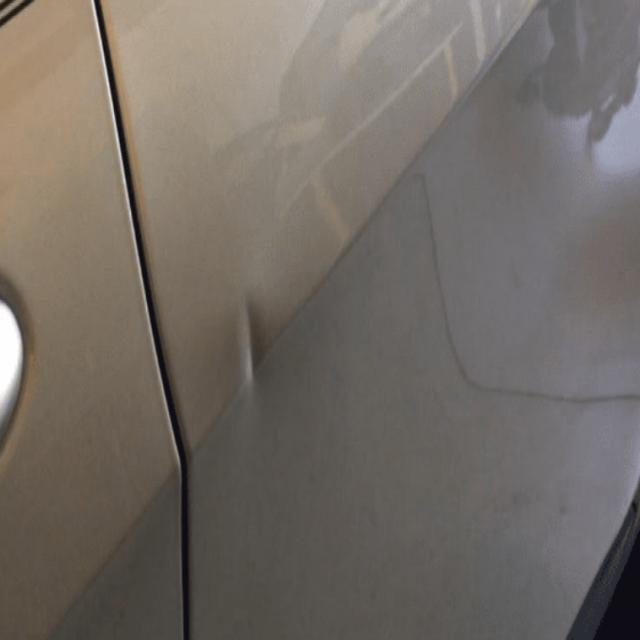dents: (222, 286, 283, 404)
